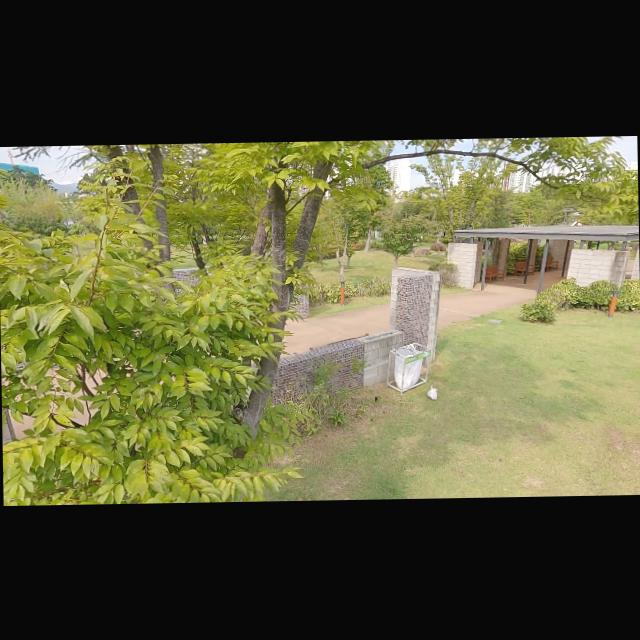trash: (426, 384, 443, 401)
